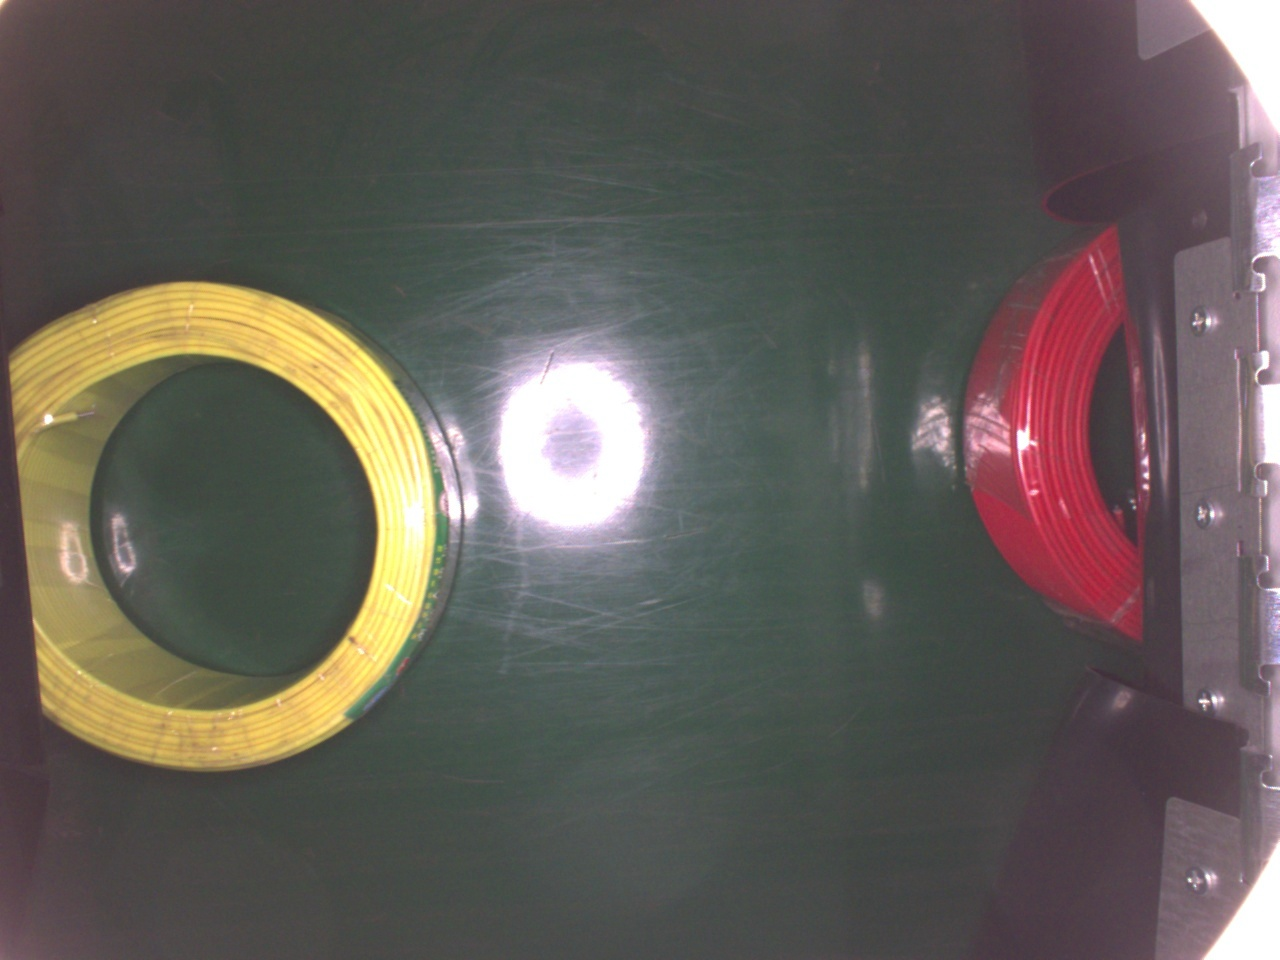red: (959, 221, 1154, 643)
yellow: (0, 274, 460, 776)
